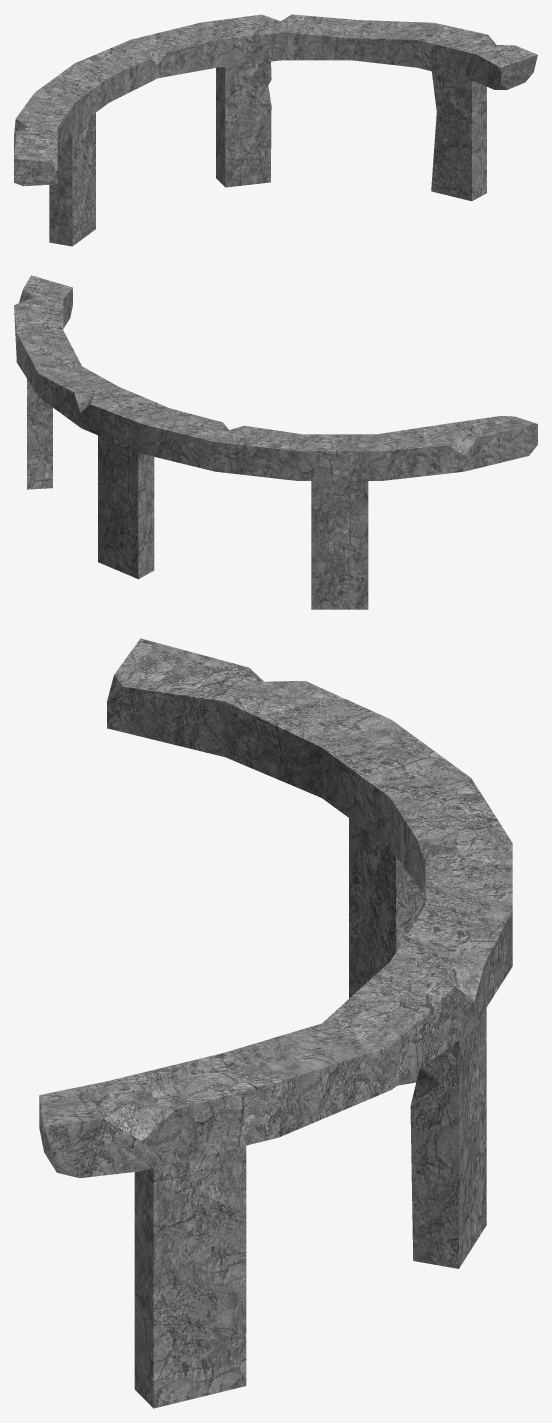
File: materials_3_handrail_3.fbx
3 views of the same model, one above another, from view 1: azimuth 30°, elevation 25°; view 2: azimuth 150°, elevation 25°; view 3: azimuth 270°, elevation 25° (orthographic). The views are drawn at different scales.
Visible parts, largest first — view 1: materials_3_handrail_3; view 2: materials_3_handrail_3; view 3: materials_3_handrail_3.
Boxes of the visible parts, x1,y1,x2,y2 form: materials_3_handrail_3: [14, 14, 537, 246]; materials_3_handrail_3: [14, 275, 537, 609]; materials_3_handrail_3: [39, 638, 512, 1408].
Size of the model in its own units: 513 by 150 by 210.
